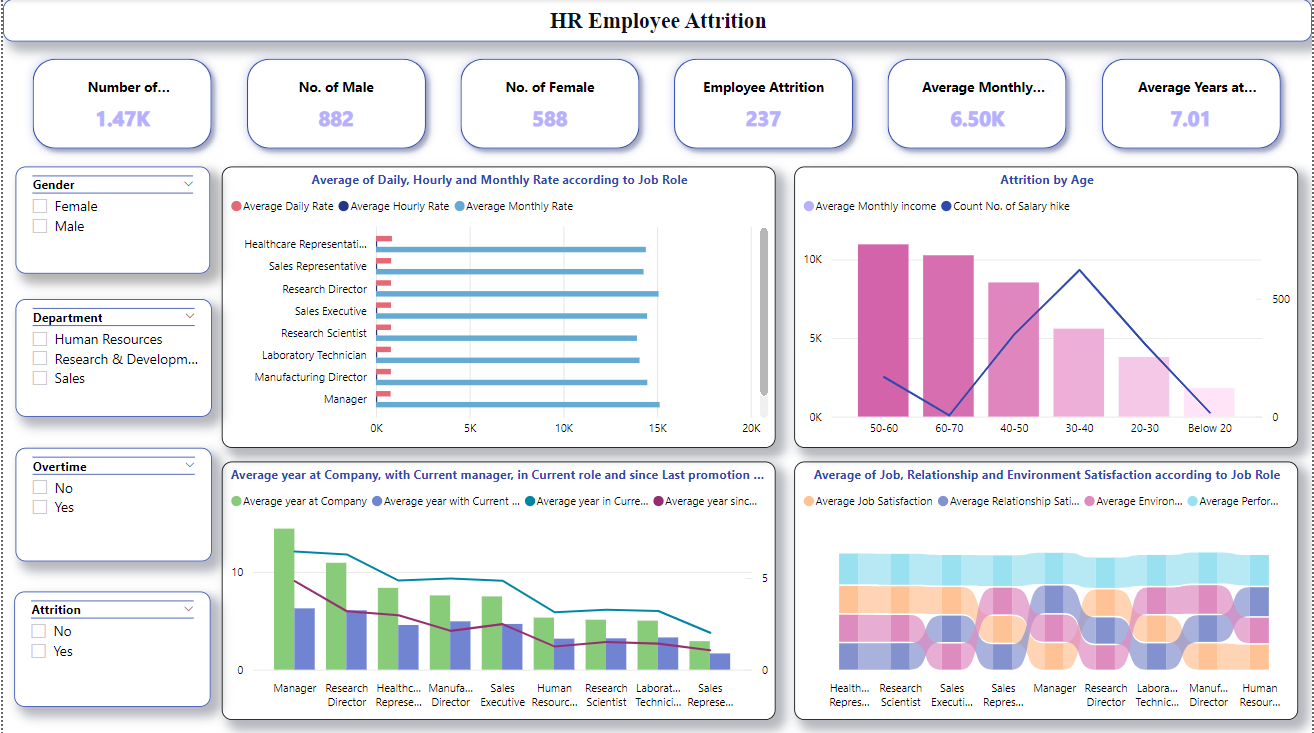

What the dashboard file says about the page in this screenshot:
{"tool":"powerbi","page":{"name":"Page 1","canvas":[1280,720],"ordinal":0},"visuals":[{"type":"cardVisual","fields":{"Data":["Count(HR-Employee-Attrition.S. No.)","HR-Employee-Attrition.No. of Male and Female","HR-Employee-Attrition.No. of Female","HR-Employee-Attrition.Employee who left","Avg(HR-Employee-Attrition.Monthly_Income)","Avg(HR-Employee-Attrition.Years_At_Company)"]},"box":[12.2,41.6,1254.2,122.2],"z":0},{"type":"textbox","box":[0,0,1279.9,41.6],"z":1000},{"type":"slicer","fields":{"Values":["HR-Employee-Attrition.Gender"]},"box":[12.2,163.8,190.7,105.1],"z":2000},{"type":"slicer","fields":{"Values":["HR-Employee-Attrition.Department"]},"box":[12.2,293.4,191.9,114.9],"z":3000},{"type":"lineStackedColumnComboChart","title":"Attrition by Age ","fields":{"Category":["HR-Employee-Attrition.Age Range"],"Y":["Avg(HR-Employee-Attrition.Monthly_Income)"],"Y2":["CountNonNull(HR-Employee-Attrition.%age_Salary_Hike)"]},"box":[773.8,163.8,492.6,275],"z":4000},{"type":"clusteredBarChart","title":"Average of Daily, Hourly and Monthly Rate according to Job Role","fields":{"Category":["HR-Employee-Attrition.Job_Role"],"Y":["Avg(HR-Employee-Attrition.Daily_Rate)","Avg(HR-Employee-Attrition.Hourly_Rate)","Avg(HR-Employee-Attrition.Monthly_Rate)"]},"box":[213.9,163.8,541.5,275],"z":5000},{"type":"ribbonChart","title":"Average of Job, Relationship and Environment Satisfaction according to Job Role","fields":{"Category":["HR-Employee-Attrition.Job_Role"],"Y":["Avg(HR-Employee-Attrition.Job_Satisfaction)","Avg(HR-Employee-Attrition.Relationship_Satisfaction)","Avg(HR-Employee-Attrition.Environment_Satisfaction)","Avg(HR-Employee-Attrition.Performance_Rating)"]},"box":[773.8,452.3,492.6,253],"z":6000},{"type":"lineClusteredColumnComboChart","title":"Average year at Company, with Current manager, in Current role and since Last promotion according to Job role","fields":{"Category":["HR-Employee-Attrition.Job_Role"],"Y":["Avg(HR-Employee-Attrition.Years_At_Company)","Avg(HR-Employee-Attrition.Years_With_Current_Manager)"],"Y2":["Avg(HR-Employee-Attrition.Years_In_Current_Role)","Avg(HR-Employee-Attrition.Years_Since_Last_Promotion)"]},"box":[213.9,452.3,541.5,253],"z":7000},{"type":"slicer","fields":{"Values":["HR-Employee-Attrition.Overtime"]},"box":[12.2,438.8,191.9,111.2],"z":8000},{"type":"slicer","fields":{"Values":["HR-Employee-Attrition.Attrition"]},"box":[11,579.4,191.9,112.5],"z":9000}]}

Visuals, with their boxes in screenshot pixels (x1, y1, x2, y2), scaled from the page's 1280x720 canvas onto the 1314x733 screenshot:
cardVisual - Count(HR-Employee-Attrition.S. No.) x HR-Employee-Attrition.No. of Male and Female: select_region(13, 42, 1300, 167)
textbox: select_region(0, 0, 1313, 42)
slicer - HR-Employee-Attrition.Gender: select_region(13, 167, 208, 274)
slicer - HR-Employee-Attrition.Department: select_region(13, 299, 210, 416)
"Attrition by Age " lineStackedColumnComboChart: select_region(794, 167, 1300, 447)
"Average of Daily, Hourly and Monthly Rate according to Job Role" clusteredBarChart: select_region(220, 167, 775, 447)
"Average of Job, Relationship and Environment Satisfaction according to Job Role" ribbonChart: select_region(794, 460, 1300, 718)
"Average year at Company, with Current manager, in Current role and since Last promotion according to Job role" lineClusteredColumnComboChart: select_region(220, 460, 775, 718)
slicer - HR-Employee-Attrition.Overtime: select_region(13, 447, 210, 560)
slicer - HR-Employee-Attrition.Attrition: select_region(11, 590, 208, 704)
